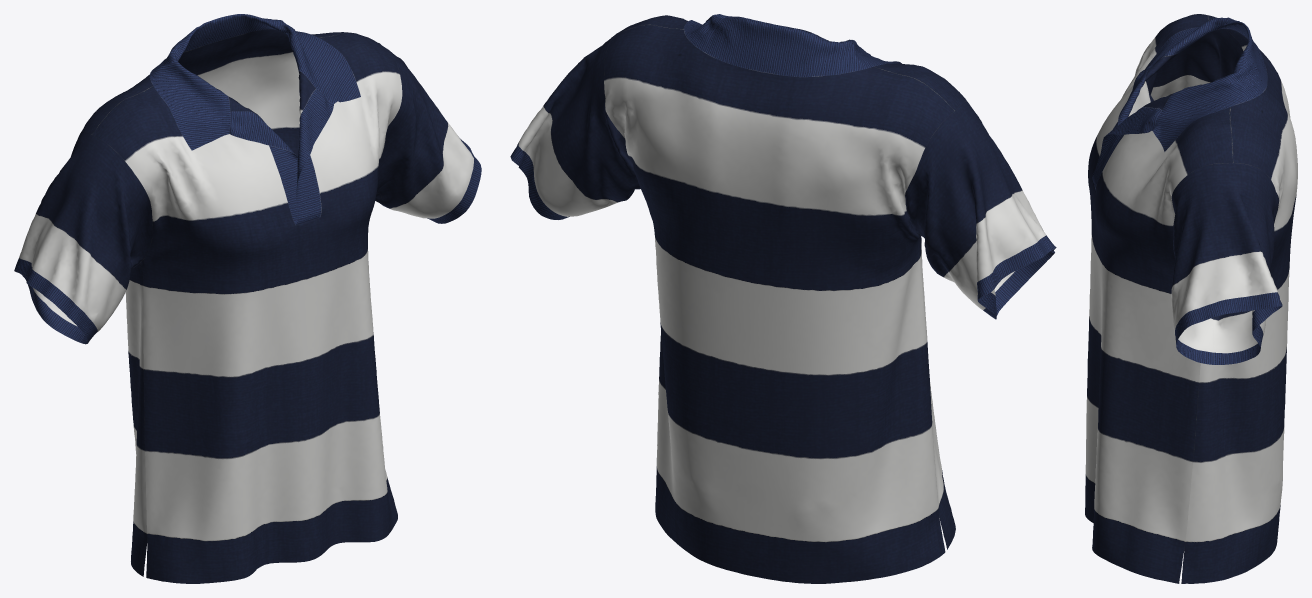
Rendered from Tshirt.gltf.
3 renders of one model, left to right at view 1: azimuth 30°, elevation 25°; view 2: azimuth 150°, elevation 25°; view 3: azimuth 270°, elevation 25°, orthographic. The views are drawn at different scales.
Parts seen in each view (by area): view 1: AM_102_035_003; view 2: AM_102_035_003; view 3: AM_102_035_003.
Part boxes in pixels (left/top/right/bottom): AM_102_035_003: left=14, top=14, right=481, bottom=583; AM_102_035_003: left=510, top=14, right=1056, bottom=583; AM_102_035_003: left=1085, top=14, right=1297, bottom=583.
Bounding box in the file's own units: 71.87 × 75.6 × 29.32.
1 material, 1 textured.
